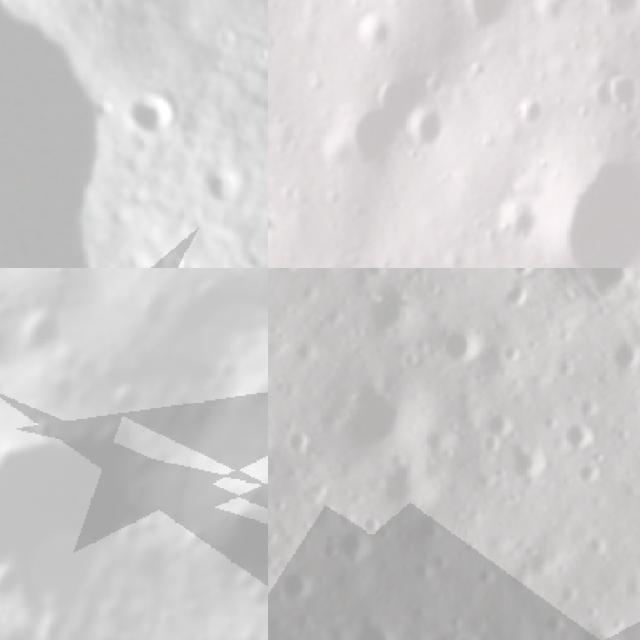crater: (0, 364, 192, 640), (316, 358, 446, 469), (541, 144, 640, 268), (490, 268, 640, 324), (11, 294, 82, 368), (114, 80, 185, 145), (360, 275, 424, 340), (348, 105, 405, 177), (374, 452, 439, 512), (192, 158, 255, 216), (104, 365, 158, 425), (326, 518, 388, 570), (499, 434, 556, 490), (18, 400, 71, 454), (436, 320, 492, 368), (268, 558, 322, 606), (556, 411, 609, 455), (342, 603, 405, 640), (407, 108, 444, 168), (415, 614, 500, 640), (568, 609, 634, 640), (0, 553, 37, 608), (354, 5, 396, 51), (566, 448, 613, 488), (277, 415, 316, 460), (602, 74, 640, 120), (236, 566, 268, 620), (0, 313, 22, 390), (603, 331, 640, 376), (499, 204, 536, 246), (461, 0, 512, 29), (589, 0, 640, 18), (625, 526, 640, 585), (499, 268, 544, 286)
